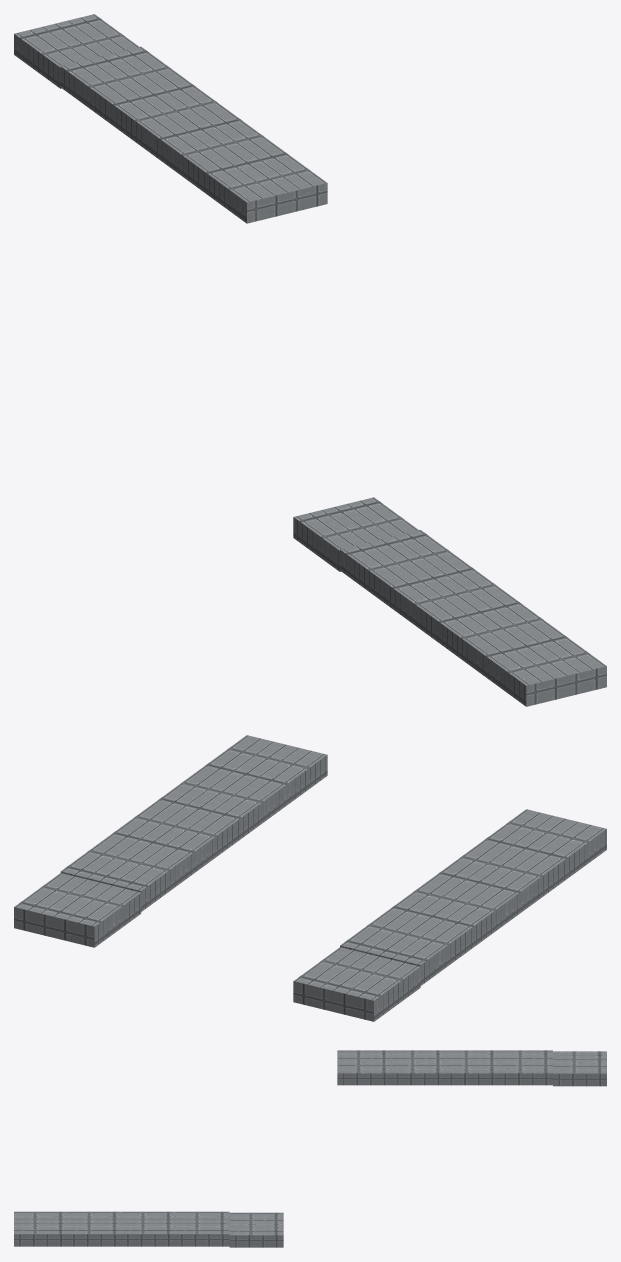
The model's file is Stage2_penetrate.fbx.
The picture shows the model from 3 angles, top to bottom: view 1: azimuth 30°, elevation 25°; view 2: azimuth 150°, elevation 25°; view 3: azimuth 270°, elevation 25°; orthographic projection. The views are drawn at different scales.
Parts seen in each view (by area): view 1: floor_def165, floor_def164; view 2: floor_def165, floor_def164; view 3: floor_def164, floor_def165.
Part boxes in pixels (box(x1,y1,x2,y2)): floor_def165: box(14, 14, 327, 223); floor_def164: box(293, 497, 606, 706); floor_def165: box(14, 735, 327, 947); floor_def164: box(293, 809, 606, 1021); floor_def164: box(14, 1211, 283, 1247); floor_def165: box(337, 1050, 606, 1086).
Size of the model in its own units: 200 by 714 by 2200.
Materials: 1 (1 with a texture image).
